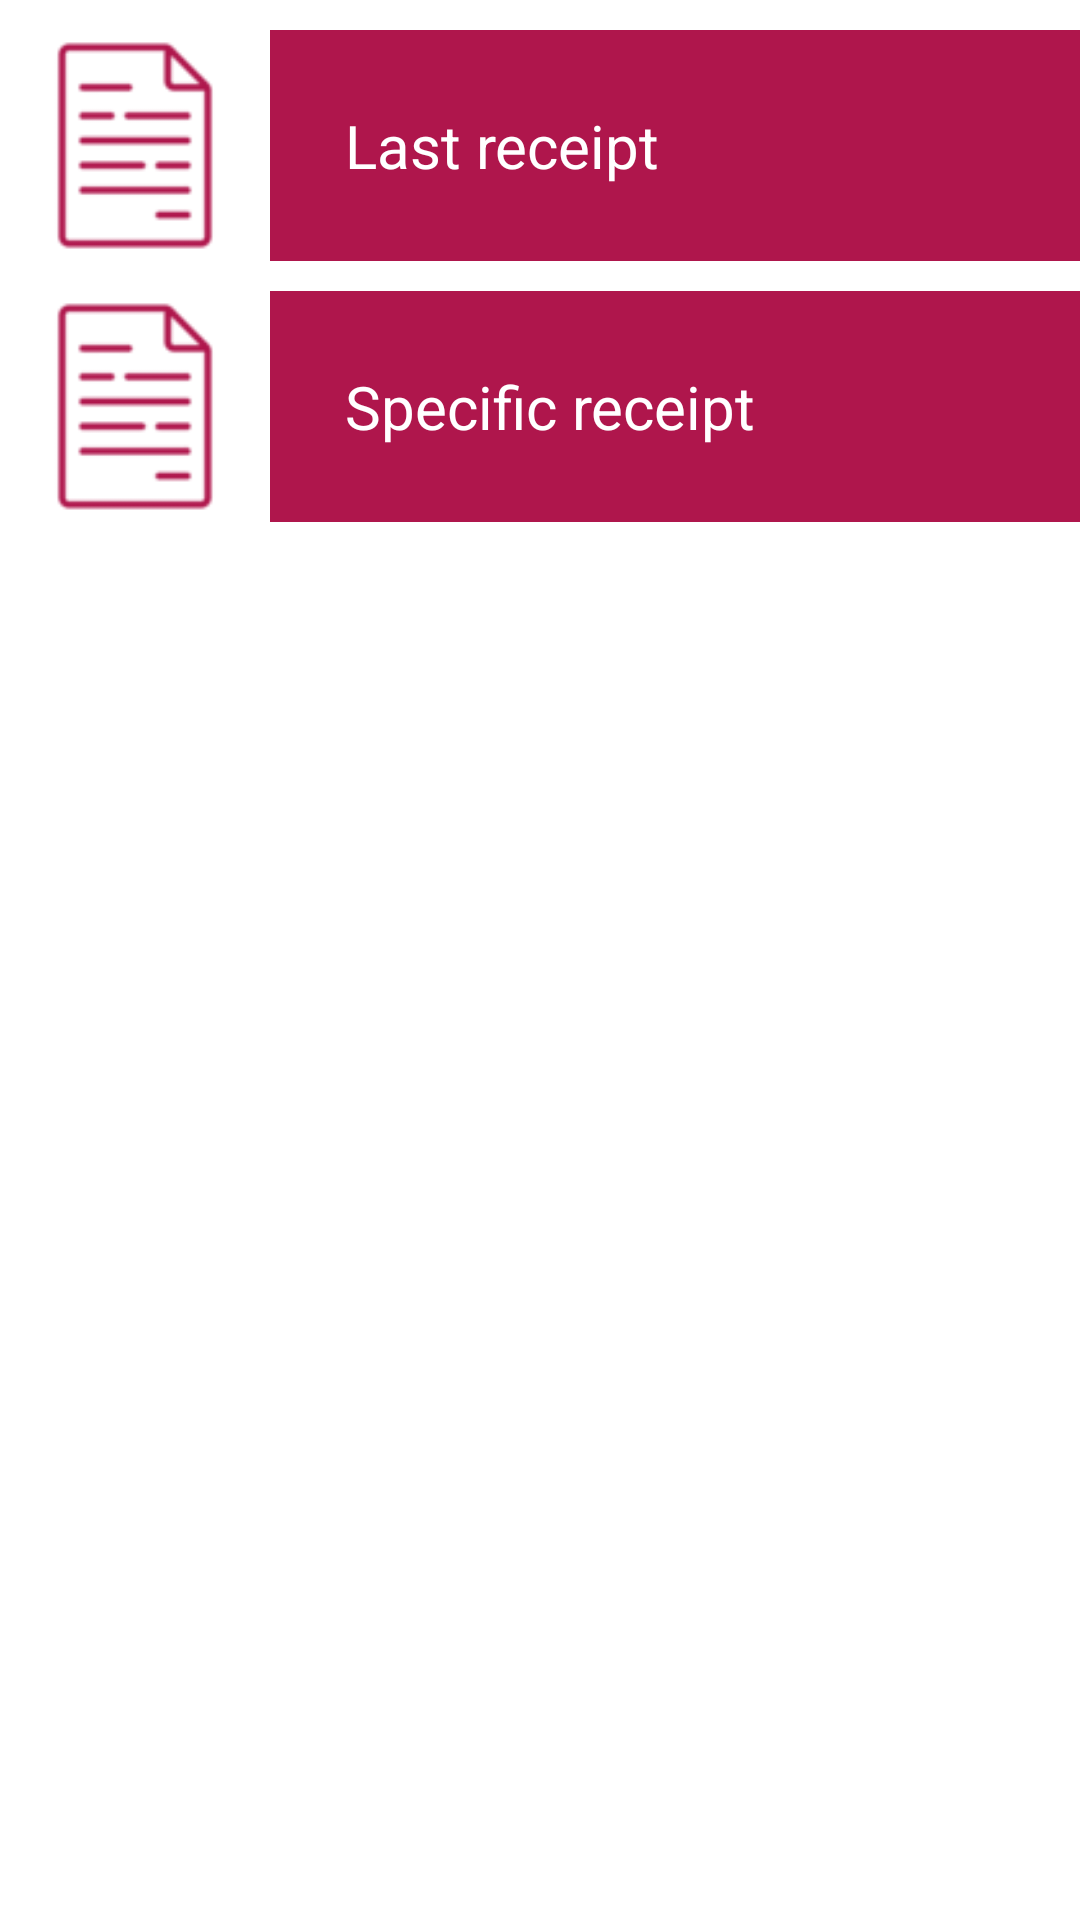

Icons on this 1080 x 1920 Android screen, each with its box as detection(x1, y1, x2, y2):
file: detection(57, 42, 213, 249), detection(57, 303, 213, 510)
